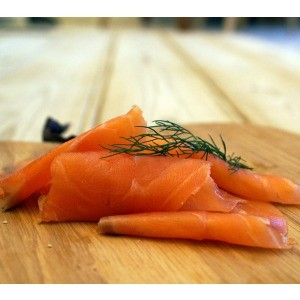salmon_brain food: (7, 111, 290, 252)
